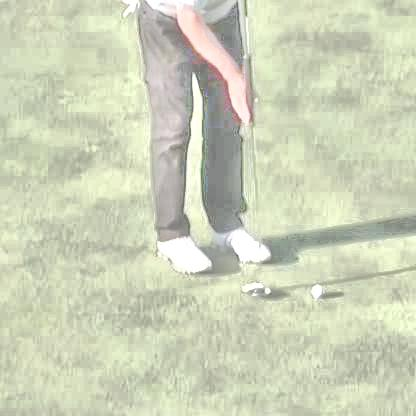golfball: (307, 281, 320, 294)
